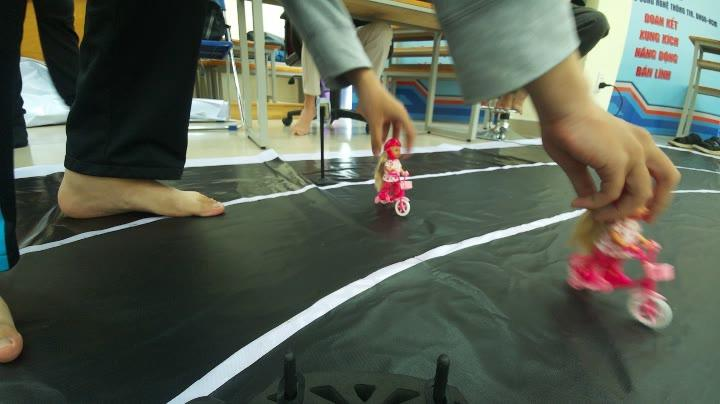pedestrian: (581, 205, 679, 324), (368, 140, 417, 210)
